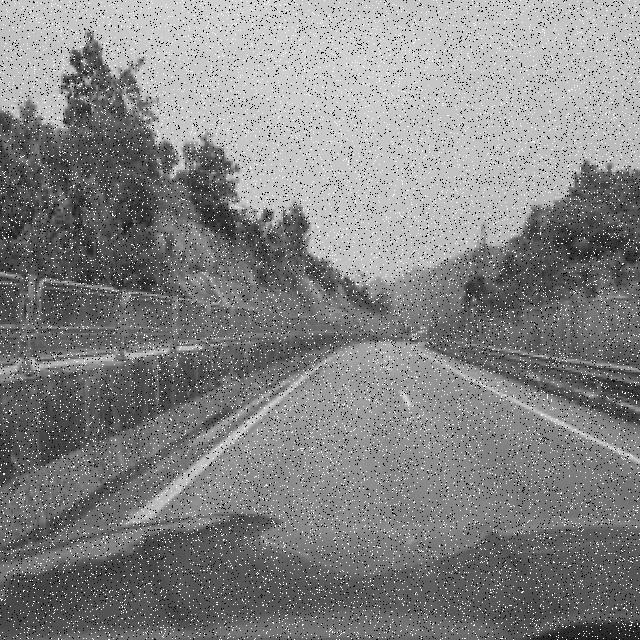clear-road: (62, 343, 640, 534)
